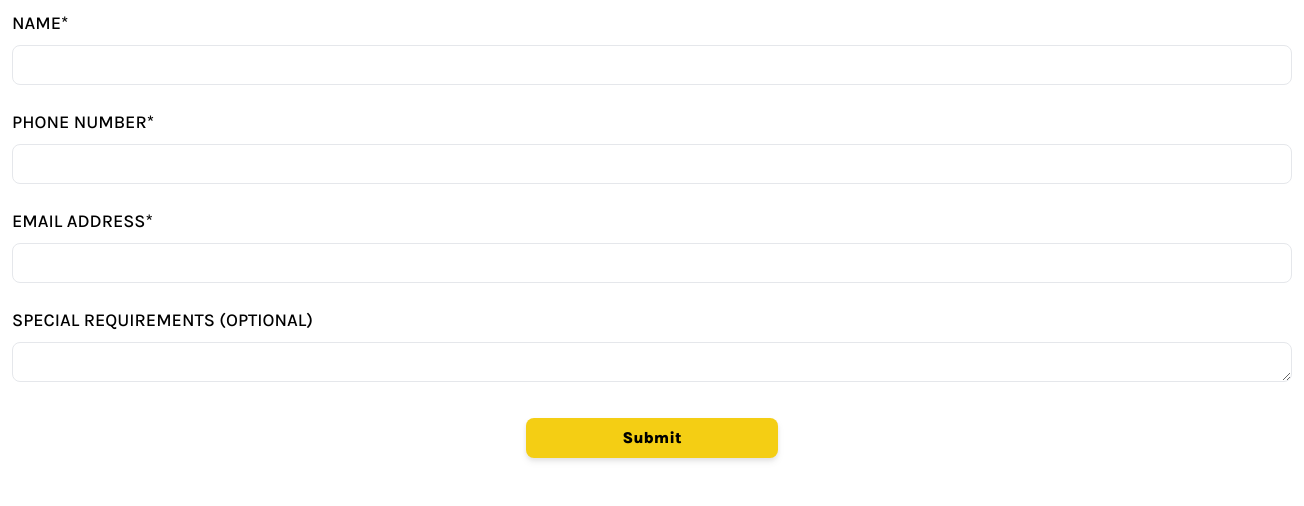
Scenario: BookingForm validation › shows error for invalid email address
Type "invalid-email" into the field labelled "Email Address*".
click(652, 263); type("invalid-email")  # box [12,243,1292,283]
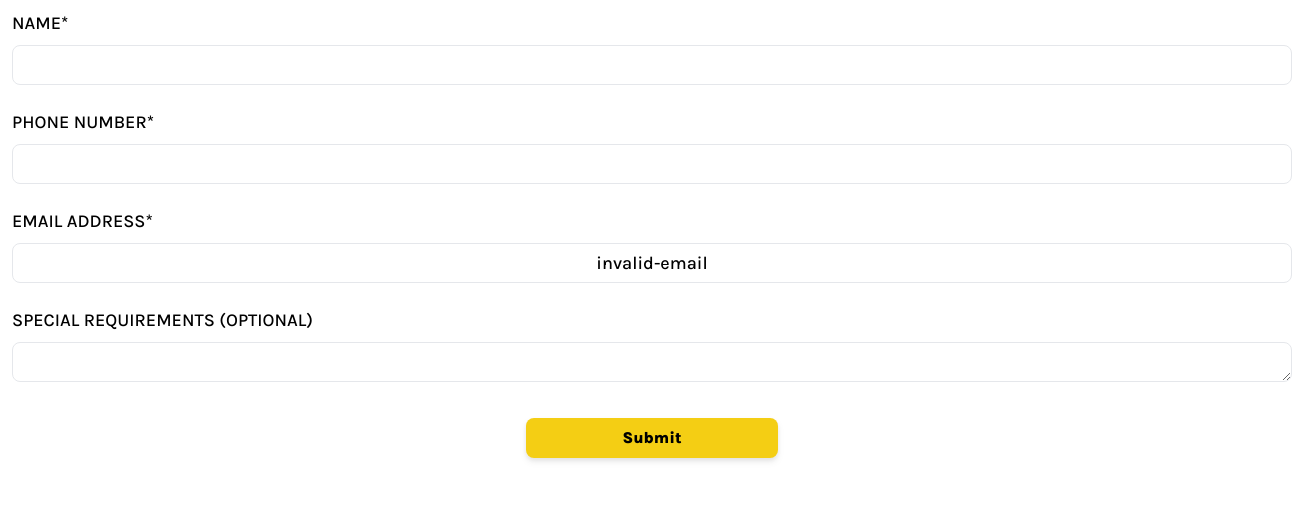
Leave the field labelled "Email Address*", box [12,243,1292,283]
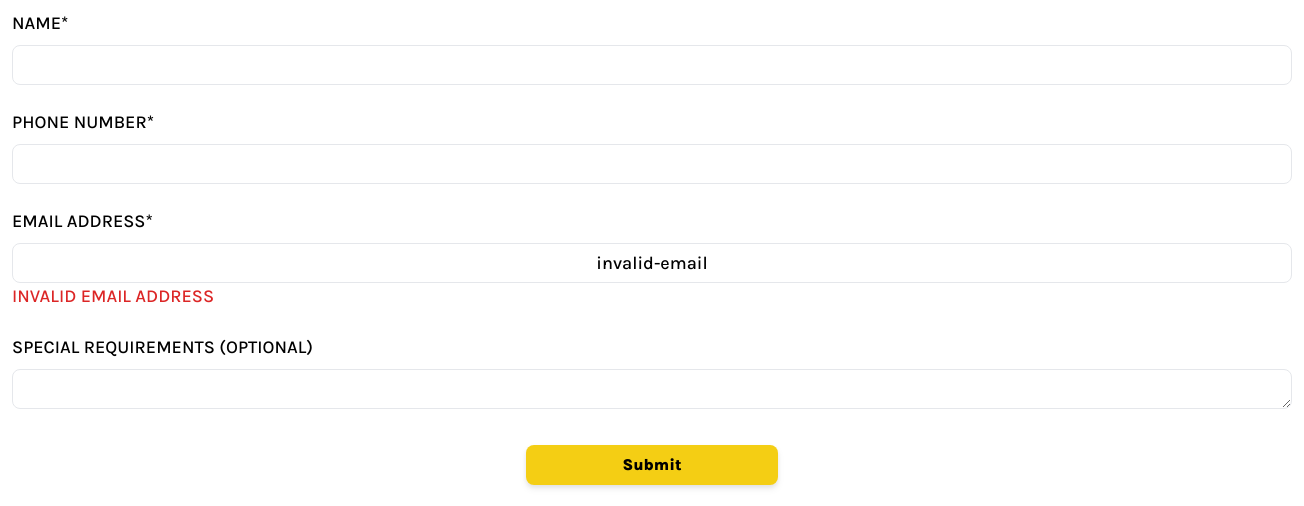
Now the text "Invalid email address" is shown, box [12,285,214,307]
